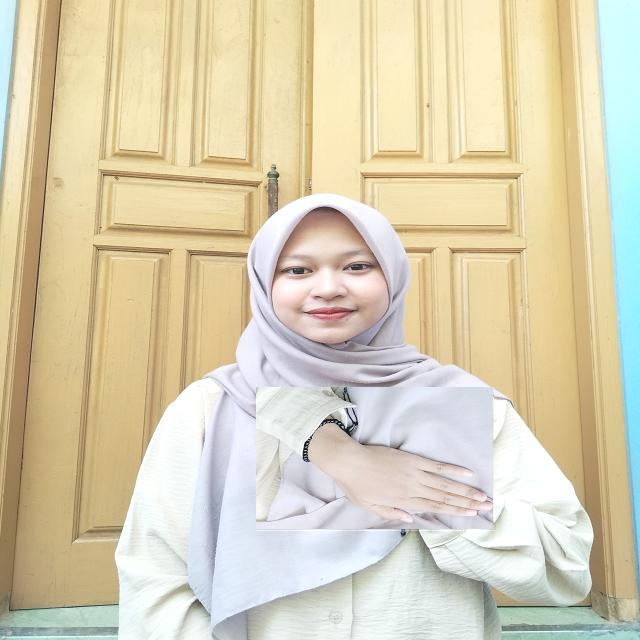tolong: (256, 388, 494, 532)
